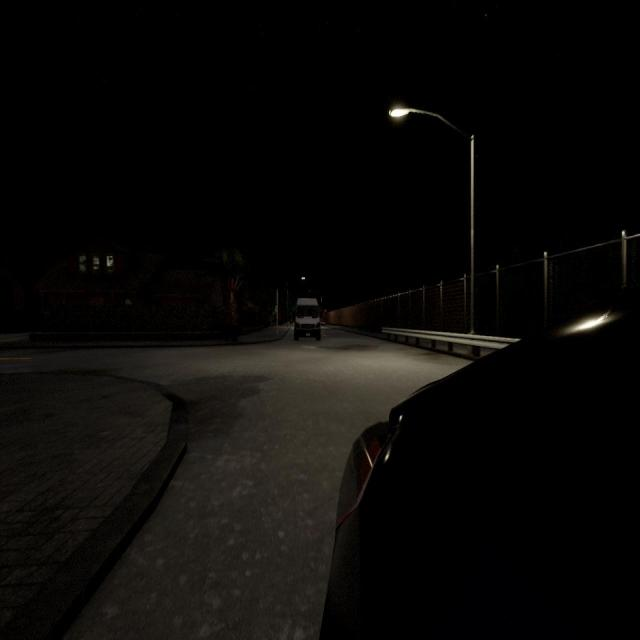Vehicle: (321, 289, 640, 640), (294, 298, 321, 341)
traffic_light: (324, 310, 326, 314)
